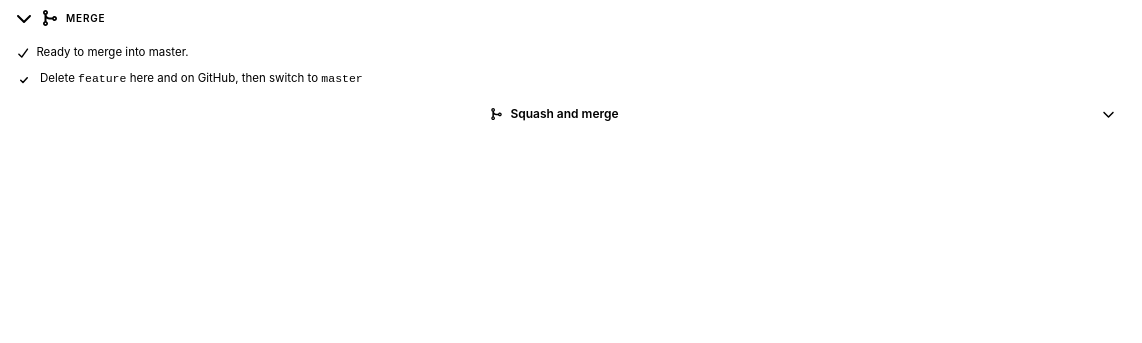
Test case: MergeCard › remembers another method for the project
This screenshot has width=1142, height=343.
Click the button named "Choose merge method" at (1108, 114), box [1092, 98, 1124, 130]
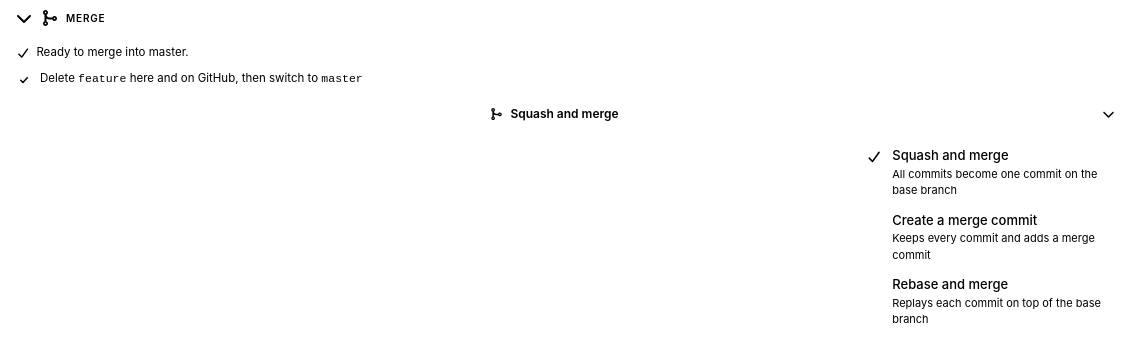
Click the menu item "Rebase and merge" at (997, 301), box [892, 276, 1101, 326]
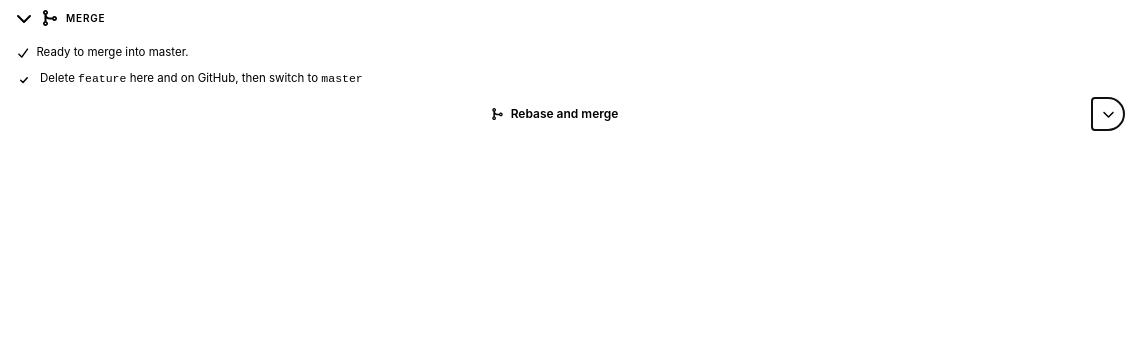
Check: the button "Rebase and merge" is shown, box [16, 98, 1092, 130]
